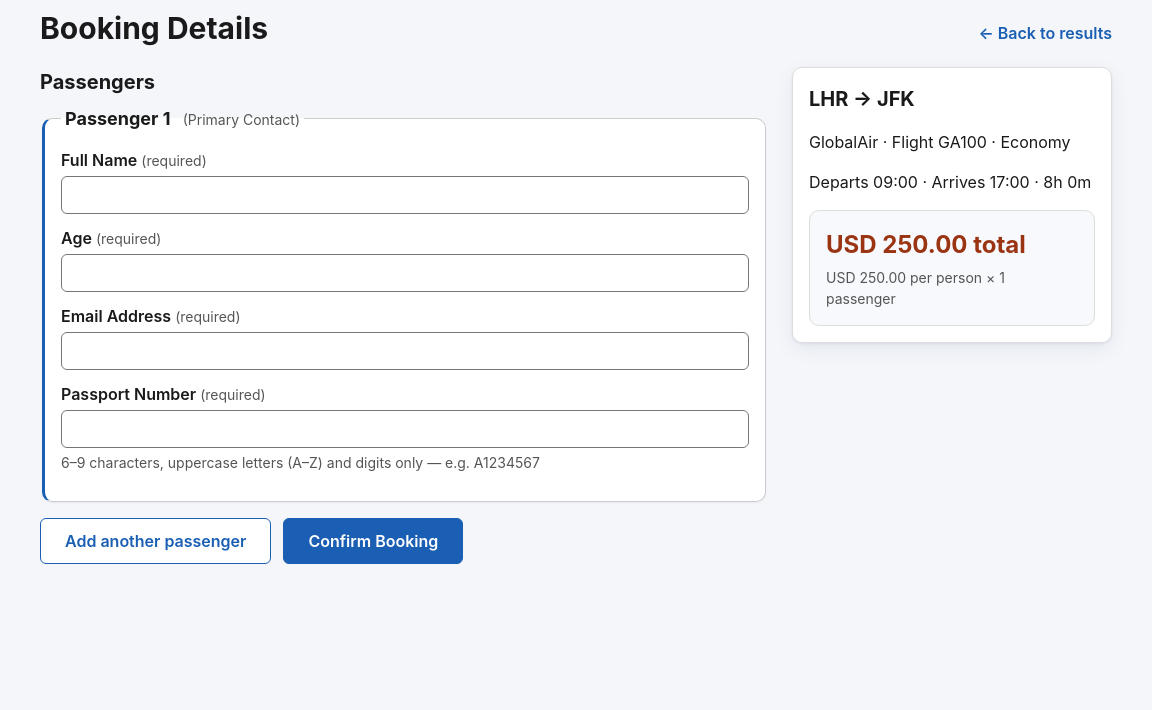
Test case: BookingFormComponent › AUD-036: surfaces a dotted flight.* server error in the focused generic banner
Type "Passenger 1" into the field with id "fullName-0" at x=405, y=195, box [61,176,749,214]
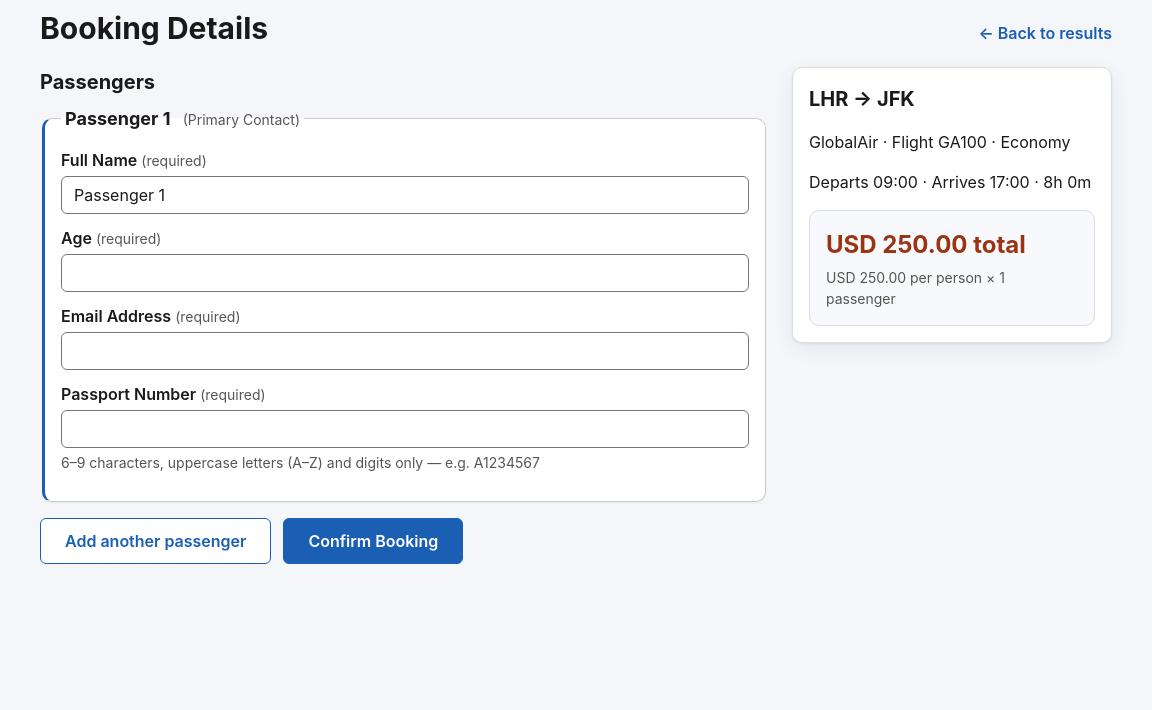
Type "31" into the number field with id "age-0" at x=405, y=273, box [61,254,749,292]
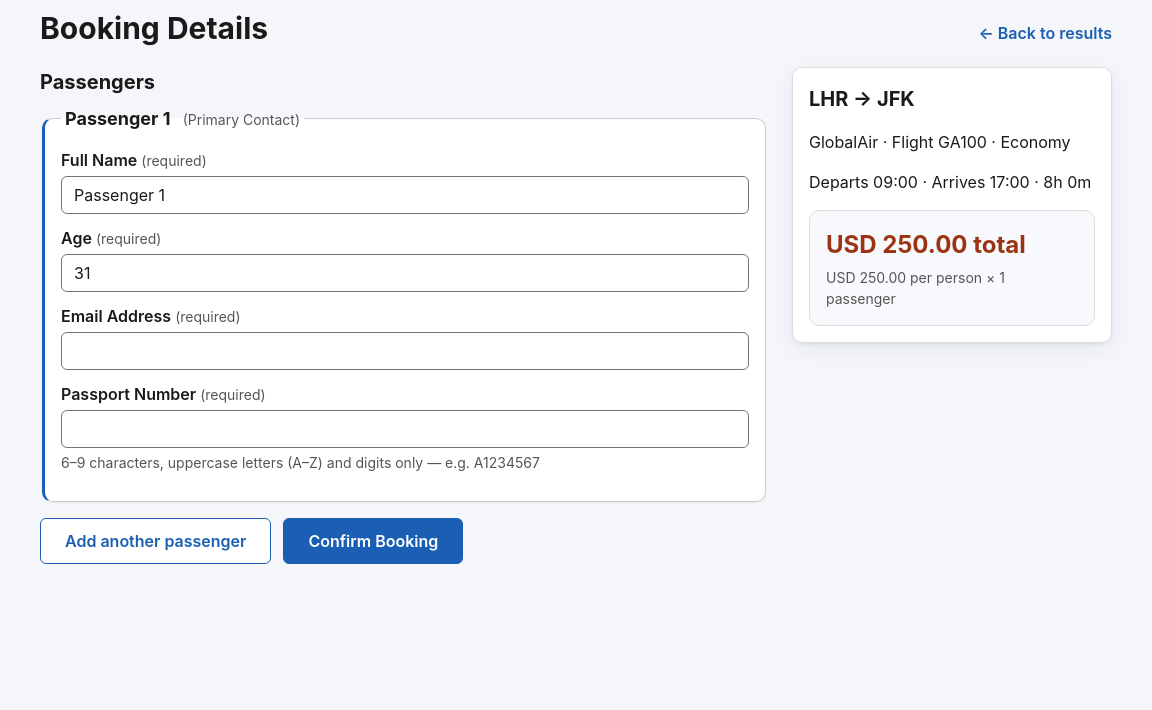
Type "p1@example.com" into the field labelled "Email Address (required)" at x=405, y=351, box [61,332,749,370]
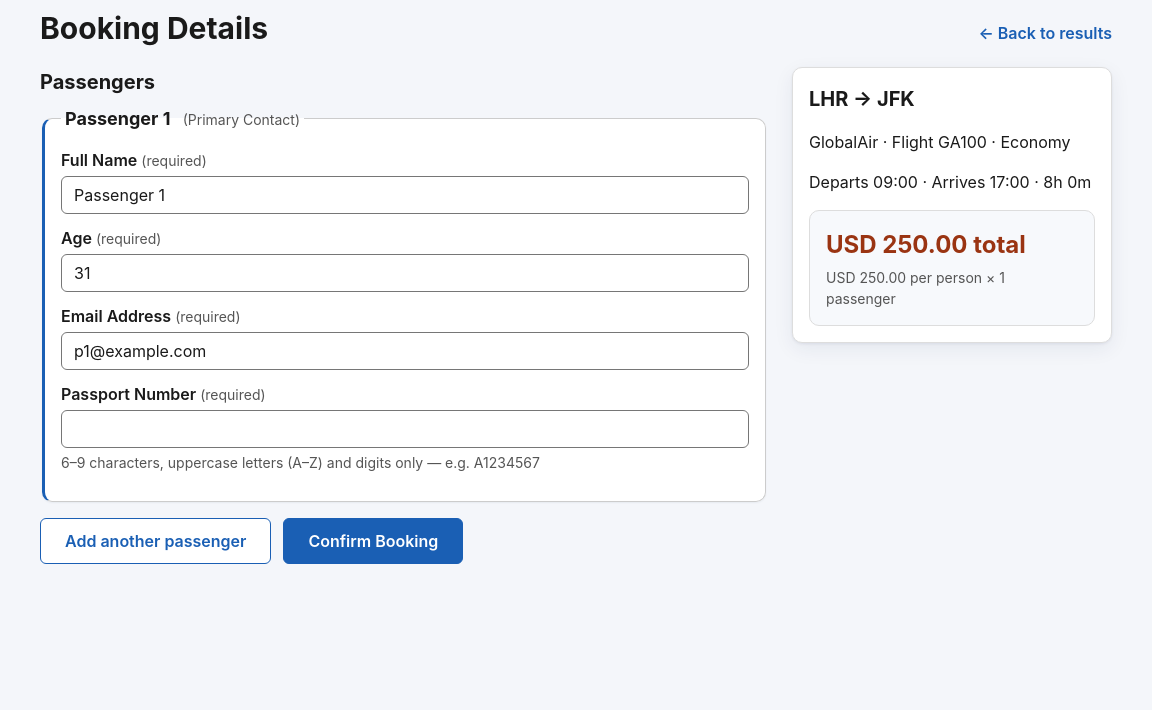
Type "AB123451" into the field with id "documentNumber-0" at x=405, y=429, box [61,410,749,448]
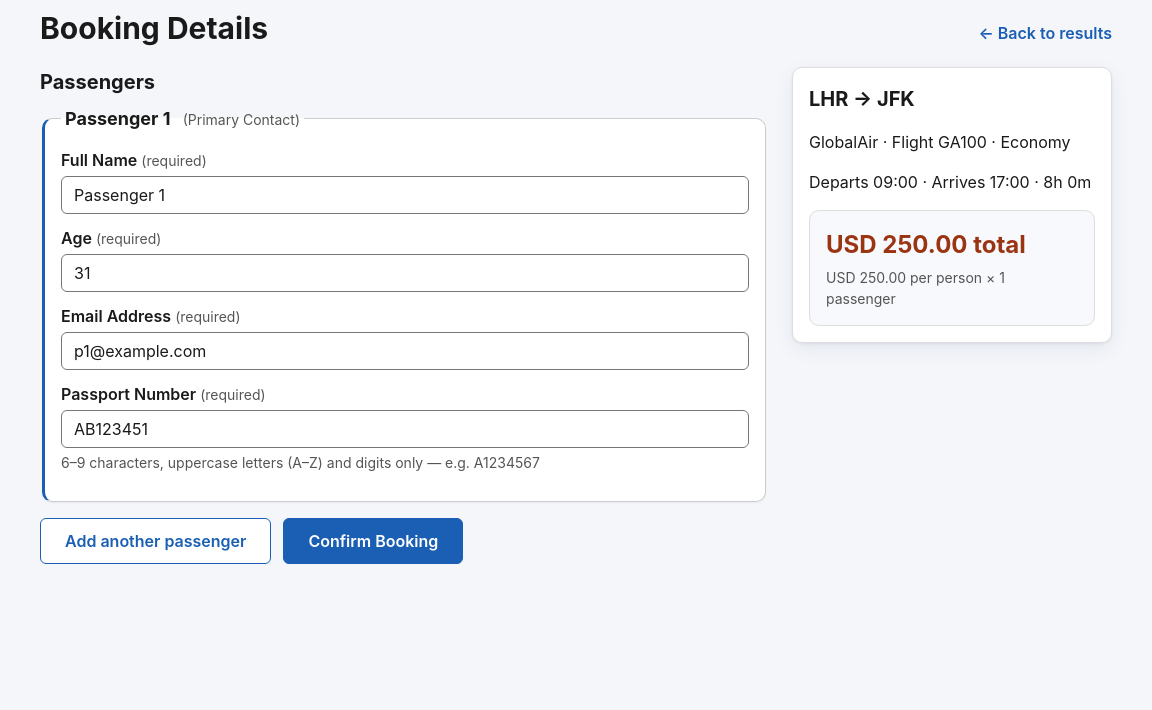
Click the button with id "add-another-btn" at x=156, y=541, box [40,518,271,564]
(page scrolled)
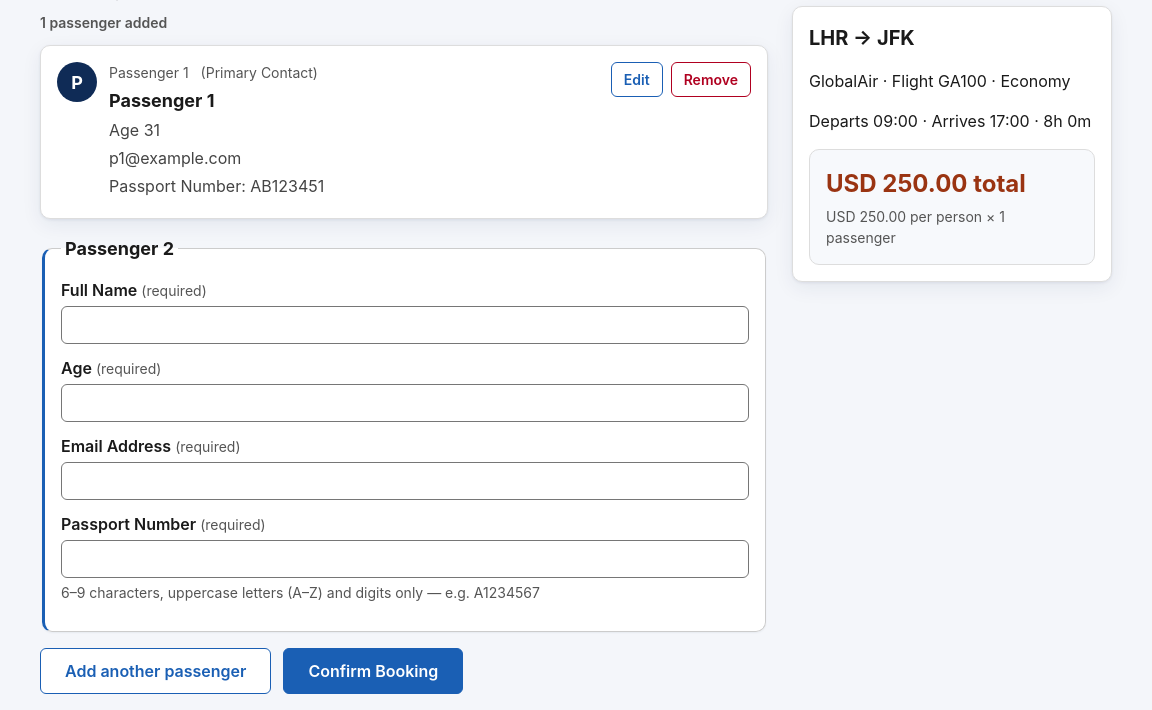
Submit the form, box [40,235,768,694]
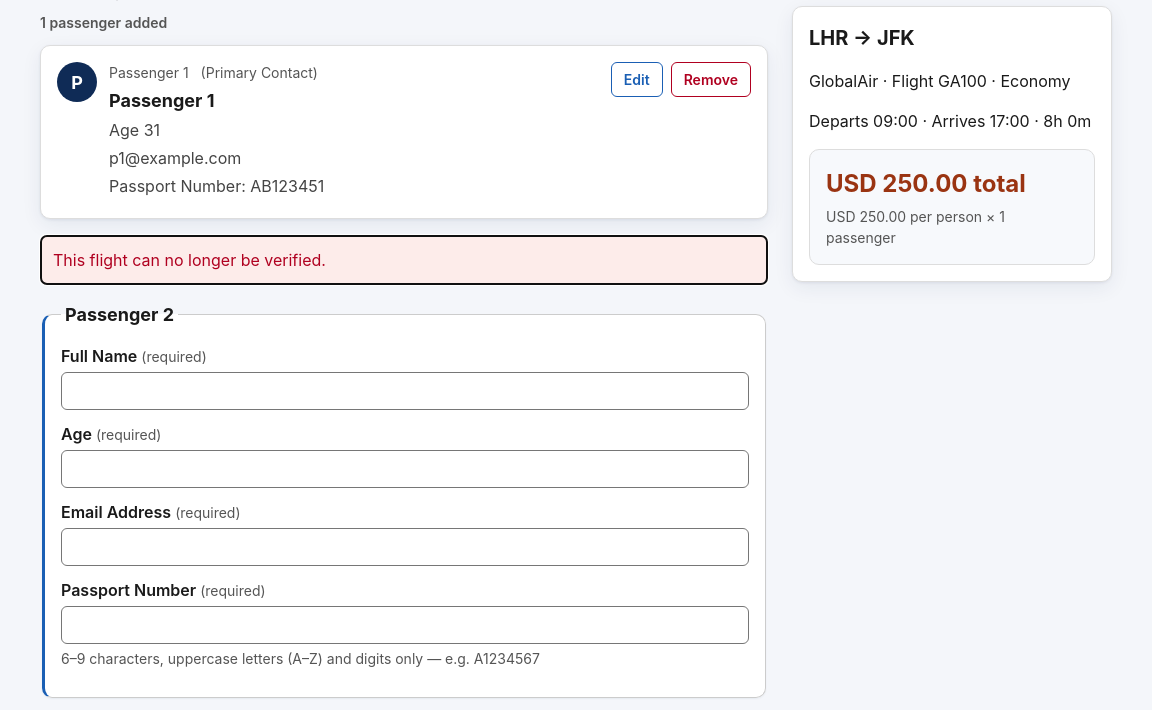
Expected: the text "This flight can no longer be verified." is shown, [40,235,768,285]
Expected: the text with id "generic-error-banner" reads "This flight can no longer be verified.", [53,250,326,270]
